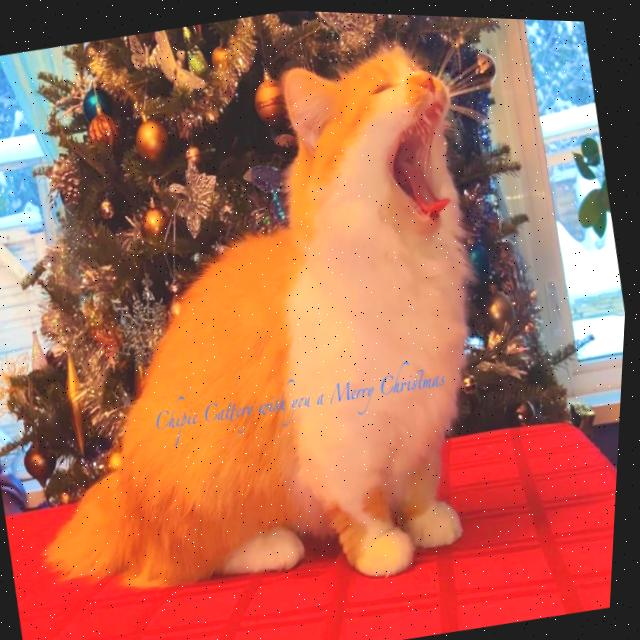Munchkin: (0, 14, 548, 640)
